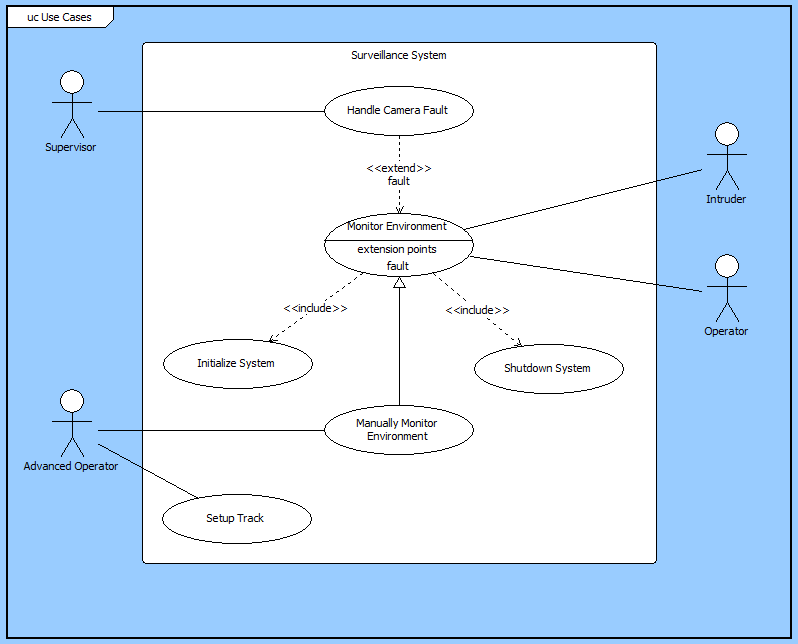actor: (704, 254, 748, 325), (48, 386, 92, 456), (49, 67, 91, 139), (706, 120, 746, 192)
association: (463, 167, 702, 229), (467, 254, 701, 291), (429, 272, 523, 346), (268, 272, 363, 343), (95, 441, 196, 497), (95, 102, 325, 118), (389, 276, 407, 404), (95, 426, 325, 435), (395, 134, 405, 212)
text: (353, 416, 441, 444), (355, 243, 439, 272), (345, 99, 454, 121), (347, 45, 449, 66), (497, 360, 595, 379), (346, 217, 448, 234), (365, 162, 434, 187), (19, 458, 120, 474), (195, 354, 278, 373), (444, 301, 515, 321), (200, 510, 274, 528), (699, 320, 754, 341), (43, 139, 99, 157), (279, 302, 349, 315), (705, 193, 749, 208)
use_case: (322, 213, 474, 277), (164, 493, 313, 546), (163, 338, 314, 390), (475, 344, 625, 395), (327, 85, 474, 136), (325, 404, 474, 454)
